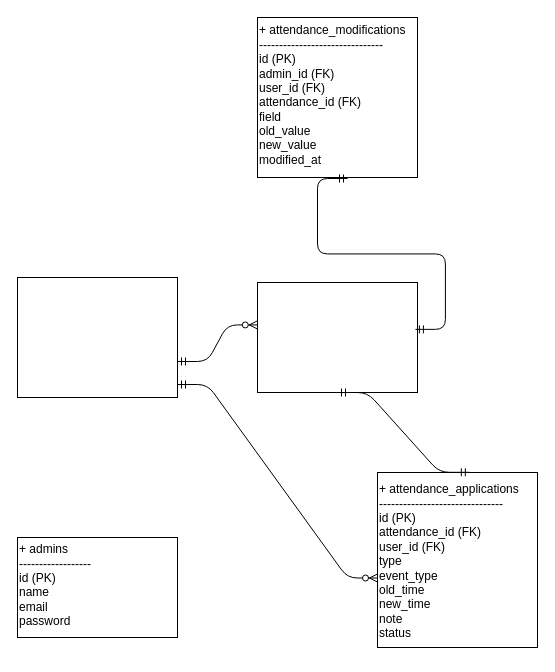
Some shapes in this 555 by 672 pixel diagram are drawn without their labels. The shapes that lost their labels are listed below. From the top down, each one's box as (x1, y1, x2, y2) in pixels, then its label:
(16, 276, 178, 398): + users ------------------ id (PK) name email password email_verification_token
(256, 282, 418, 392): + attendances -------------- id (PK) user_id (FK) type timestamp note
